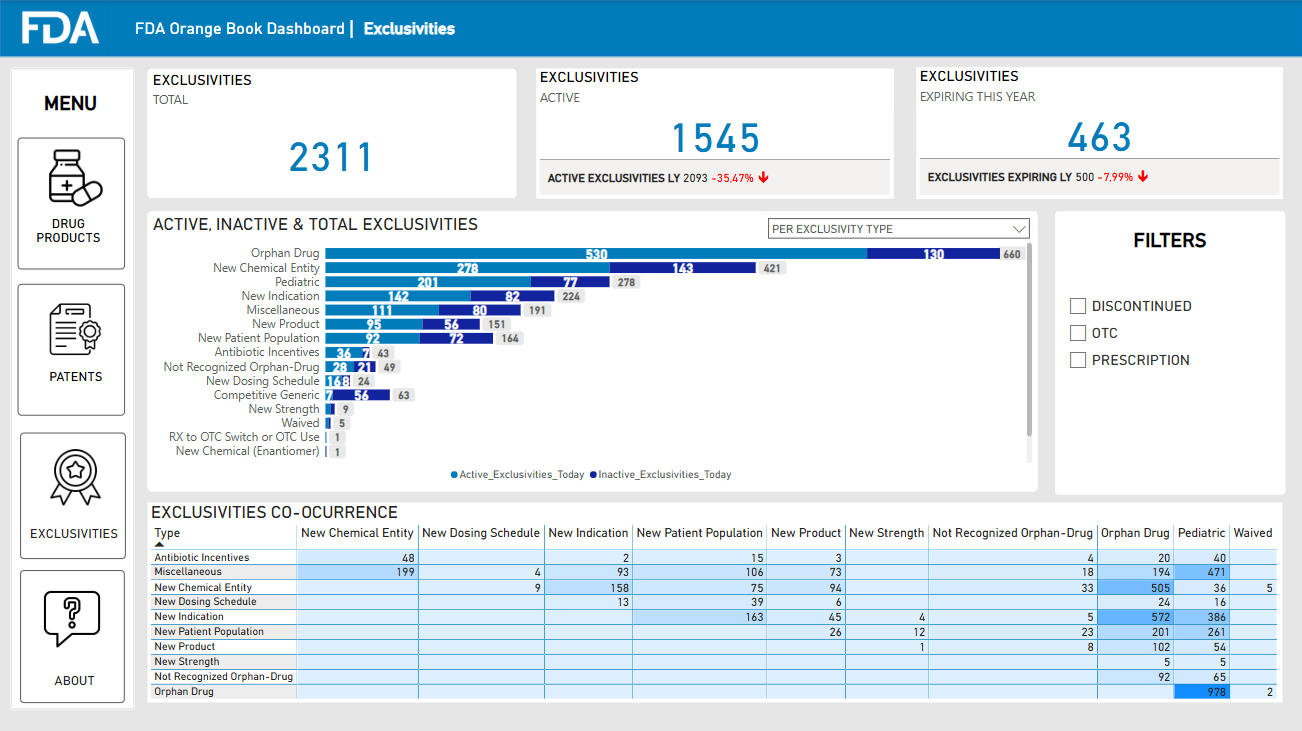

The dashboard page shown, as its layout file describes it:
{"tool":"powerbi","page":{"name":"Exclusivities","canvas":[1920,1080],"ordinal":2},"visuals":[{"type":"shape","box":[216.9,311.5,1310.5,413],"z":0},{"type":"shape","box":[14,100,184,946],"z":1000},{"type":"shape","box":[1552.7,311.5,339.2,417.6],"z":2000},{"type":"image","box":[62,216,98,94],"z":3000},{"type":"textbox","box":[4,312,194,66],"z":4000},{"type":"textbox","box":[24,770,170,50],"z":5000},{"type":"textbox","box":[36.4,130,134,44],"z":6000},{"type":"card","title":"EXCLUSIVITIES","fields":{"Values":["My_Measures.Total_Exclusivities"]},"box":[216.7,101.1,543.3,190],"z":7000},{"type":"slicer","title":"DRUG PRODUCT","fields":{"Values":["Products.Type"]},"box":[1562.6,425.2,333.1,139.9],"z":8000},{"type":"textbox","box":[1636.2,331.3,173,49.7],"z":9000},{"type":"actionButton","box":[1838,0,54.1,54.1],"z":10000},{"type":"shape","box":[26,202,158,194],"z":11000},{"type":"shape","box":[0,0,1920.1,84],"z":12000},{"type":"shape","box":[26,418,158,194],"z":13000},{"type":"shape","box":[30,636,156,186],"z":14000},{"type":"shape","box":[30,840,154,196],"z":15000},{"type":"textbox","box":[194,14,1198,56],"z":16000},{"type":"image","box":[0,0,178,84],"z":17000},{"type":"image","box":[68,438,86,94],"z":18000},{"type":"textbox","box":[14,540,194,50],"z":19000},{"type":"image","box":[64,656,94,94],"z":20000},{"type":"image","box":[50,858,112,108],"z":21000},{"type":"textbox","box":[26,986,168,50],"z":22000},{"type":"cardVisual","title":"EXCLUSIVITIES","fields":{"Data":["My_Measures.Active_Exclusivities_Today"]},"box":[789.6,101.2,526.4,191.4],"z":23000},{"type":"cardVisual","title":"EXCLUSIVITIES","fields":{"Data":["My_Measures.Exclusivities_Expiring_This_Year"]},"box":[1350,99.4,540,193.3],"z":24000},{"type":"pivotTable","title":"EXCLUSIVITIES CO-OCURRENCE","fields":{"Rows":["Exclusivities_Co_Ocurrences.Type"],"Columns":["Exclusivities_Co_Ocurrences.Type_1"],"Values":["Sum(Exclusivities_Co_Ocurrences.Count)"]},"box":[217.2,739.9,1671.2,294.5],"z":25000},{"type":"barChart","title":"ACTIVE, INACTIVE & TOTAL EXCLUSIVITIES","fields":{"Category":["Exclusivities.Exclusivity_Type"],"Y":["My_Measures.Active_Exclusivities_Today","My_Measures.Inactive_Exclusivities_Today"]},"box":[217.2,312.9,1310.4,410.4],"z":26000},{"type":"slicer","fields":{"Values":["Parameter_3.Parameter_3"]},"box":[1121.3,311.6,404.8,45.5],"z":27000},{"type":"pageNavigator","box":[14.7,202.5,184.1,842.9],"z":28000}]}

Visuals, with their boxes in screenshot pixels (x1, y1, x2, y2), scaled from the page's 1920x1080 canvas onto the 1302x731 screenshot:
shape: [147,211,1036,490]
shape: [9,68,134,708]
shape: [1053,211,1283,493]
image: [42,146,108,210]
textbox: [3,211,134,256]
textbox: [16,521,132,555]
textbox: [25,88,116,118]
"EXCLUSIVITIES" card: [147,68,515,197]
"DRUG PRODUCT" slicer: [1060,288,1286,382]
textbox: [1110,224,1227,258]
actionButton: [1246,0,1283,37]
shape: [18,137,125,268]
shape: [0,0,1301,57]
shape: [18,283,125,414]
shape: [20,430,126,556]
shape: [20,569,125,701]
textbox: [132,9,944,47]
image: [0,0,121,57]
image: [46,296,104,360]
textbox: [9,366,141,399]
image: [43,444,107,508]
image: [34,581,110,654]
textbox: [18,667,132,701]
"EXCLUSIVITIES" cardVisual: [535,68,892,198]
"EXCLUSIVITIES" cardVisual: [915,67,1282,198]
"EXCLUSIVITIES CO-OCURRENCE" pivotTable: [147,501,1281,700]
"ACTIVE, INACTIVE & TOTAL EXCLUSIVITIES" barChart: [147,212,1036,490]
slicer - Parameter_3.Parameter_3: [760,211,1035,242]
pageNavigator: [10,137,135,708]
